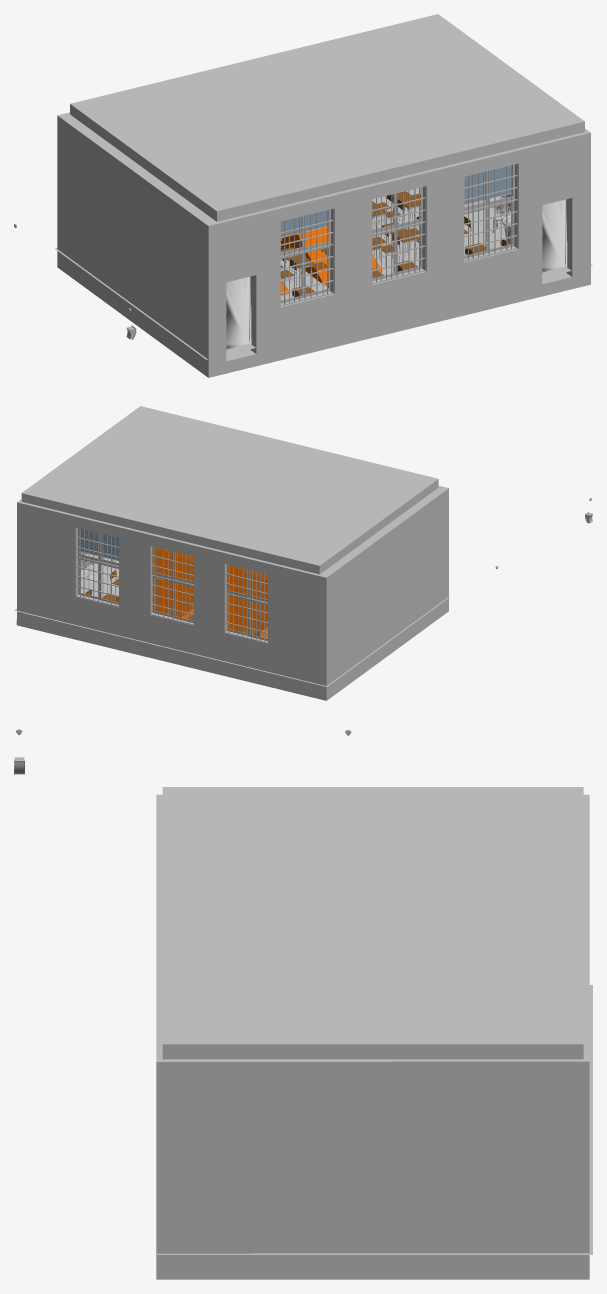
The model's file is junior school_desk.fbx.
The picture shows the model from 3 angles, top to bottom: view 1: azimuth 30°, elevation 25°; view 2: azimuth 150°, elevation 25°; view 3: azimuth 270°, elevation 25°; orthographic projection. The views are drawn at different scales.
Visible parts, largest first — view 1: 墙, 屋顶, 栅栏, 窗帘, 门框, 门框 .001, 光; view 2: 墙, 屋顶, 栅栏, 光, 窗帘; view 3: 屋顶, 墙.
Part boxes in pixels (x1,y1,x2,y2): 墙: (55, 112, 592, 377); 屋顶: (70, 14, 584, 221); 栅栏: (280, 164, 517, 306); 窗帘: (280, 165, 512, 237); 门框: (226, 276, 251, 349); 门框 .001: (542, 199, 567, 272); 光: (280, 226, 382, 295); 墙: (14, 485, 449, 700); 屋顶: (21, 406, 438, 574); 栅栏: (75, 527, 268, 643); 光: (153, 547, 267, 638); 窗帘: (79, 529, 118, 561); 屋顶: (162, 787, 583, 1059); 墙: (156, 794, 592, 1279).
Size of the model in its own units: 5479 by 1659 by 3740.
